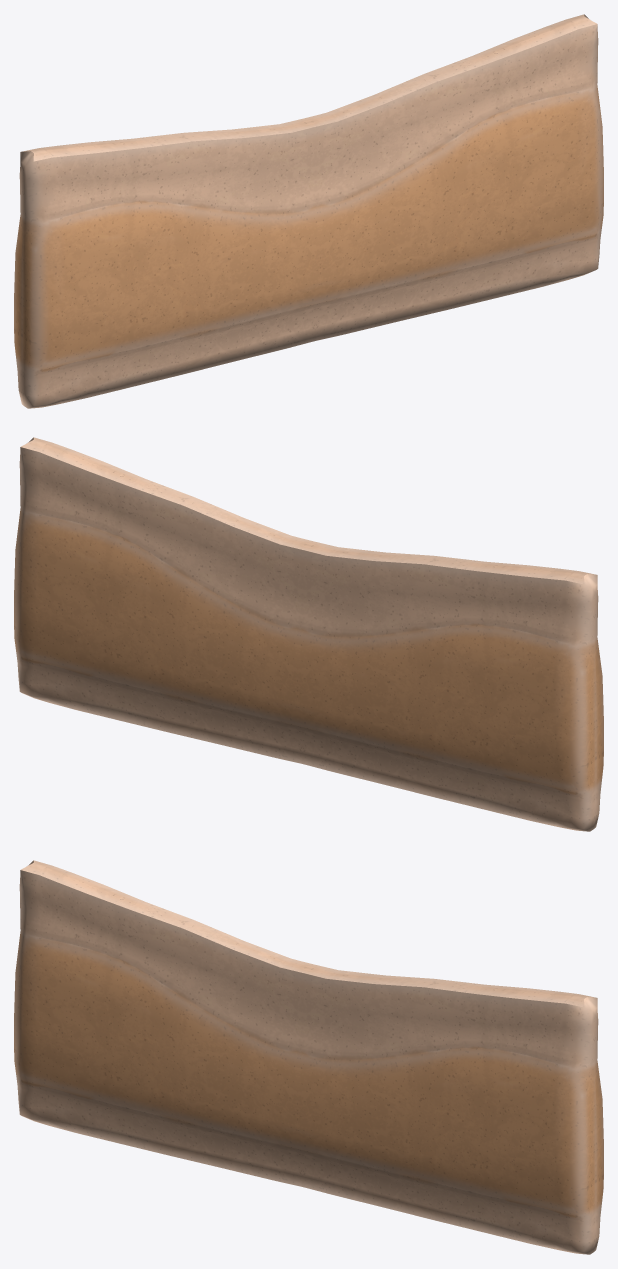
Rendered from wall_2_2.fbx.
3 views of the same model, one above another, from view 1: azimuth 30°, elevation 25°; view 2: azimuth 150°, elevation 25°; view 3: azimuth 330°, elevation 25° (orthographic).
Visible parts, largest first — view 1: Group760; view 2: Group760; view 3: Group760.
Boxes of the visible parts, x1,y1,x2,y2 form: Group760: (14,14,603,408); Group760: (14,437,603,831); Group760: (14,860,603,1254).
Size of the model in its own units: 608 by 257 by 47.42.
1 material, 1 textured.
